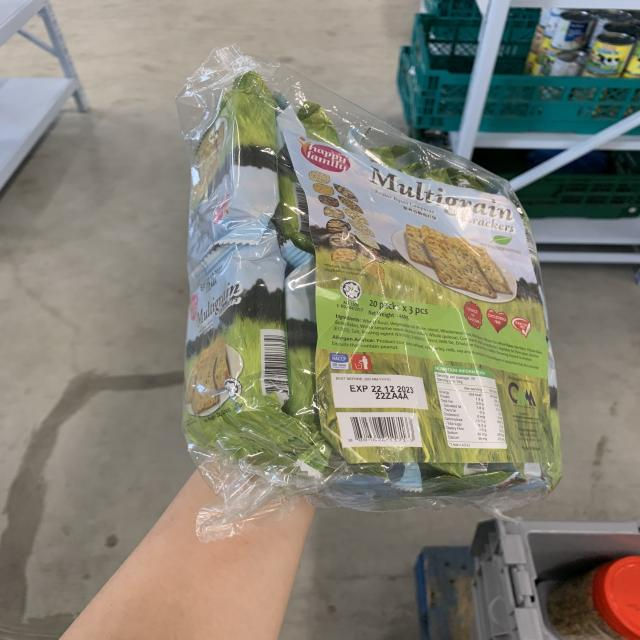object_name: (198, 69, 558, 494)
